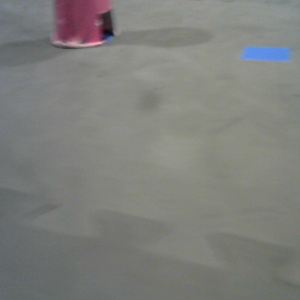middle: (51, 1, 117, 47)
